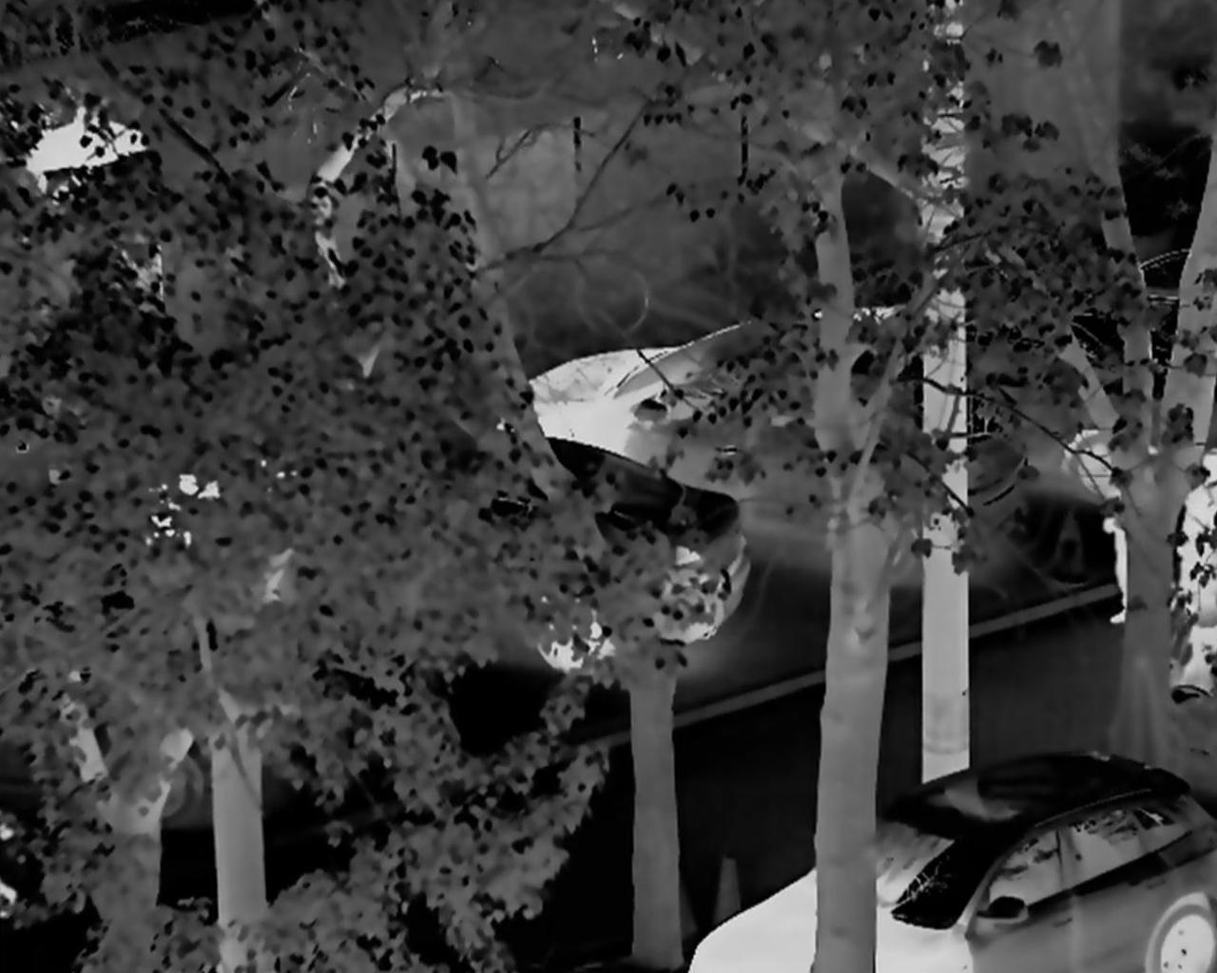person: (1082, 430, 1149, 633), (1180, 453, 1217, 714)
